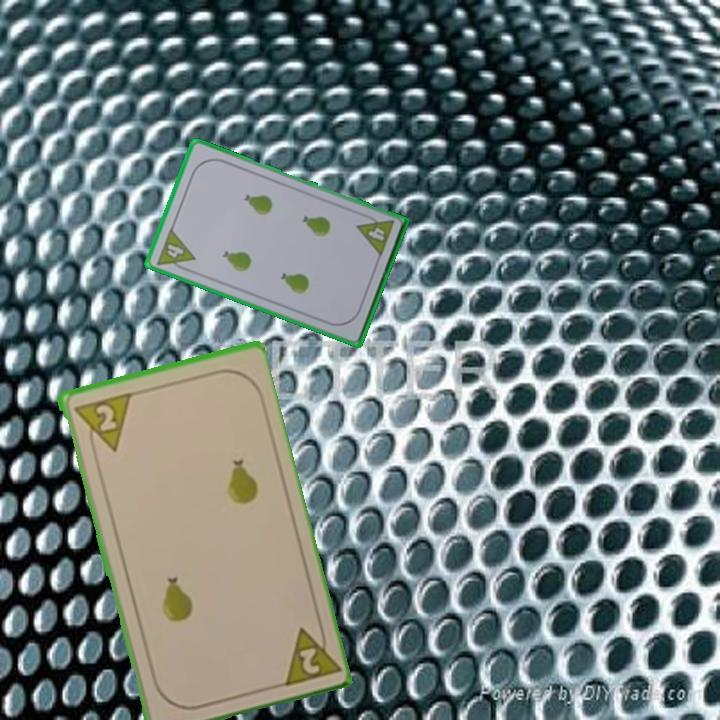2p: (276, 617, 340, 690), (69, 389, 133, 458)
4p: (153, 225, 198, 275), (353, 210, 396, 260)
